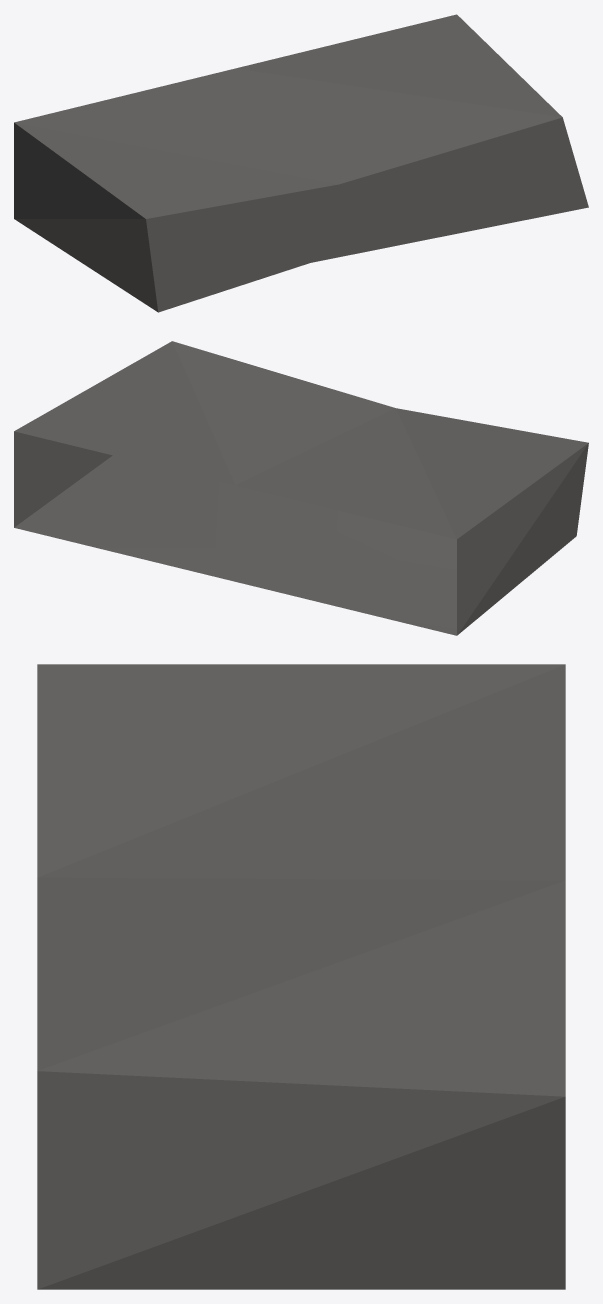
File: Veranda_A_02.FBX
The picture shows the model from 3 angles, top to bottom: view 1: azimuth 30°, elevation 25°; view 2: azimuth 150°, elevation 25°; view 3: azimuth 270°, elevation 25°; orthographic projection. The views are drawn at different scales.
Parts seen in each view (by area): view 1: Veranda_A_02; view 2: Veranda_A_02; view 3: Veranda_A_02.
Boxes of the visible parts, left/top/right/bottom form: Veranda_A_02: left=14, top=14, right=588, bottom=312; Veranda_A_02: left=14, top=341, right=588, bottom=635; Veranda_A_02: left=37, top=664, right=565, bottom=1289.
Size of the model in its own units: 0.759 by 0.158 by 0.3918.
